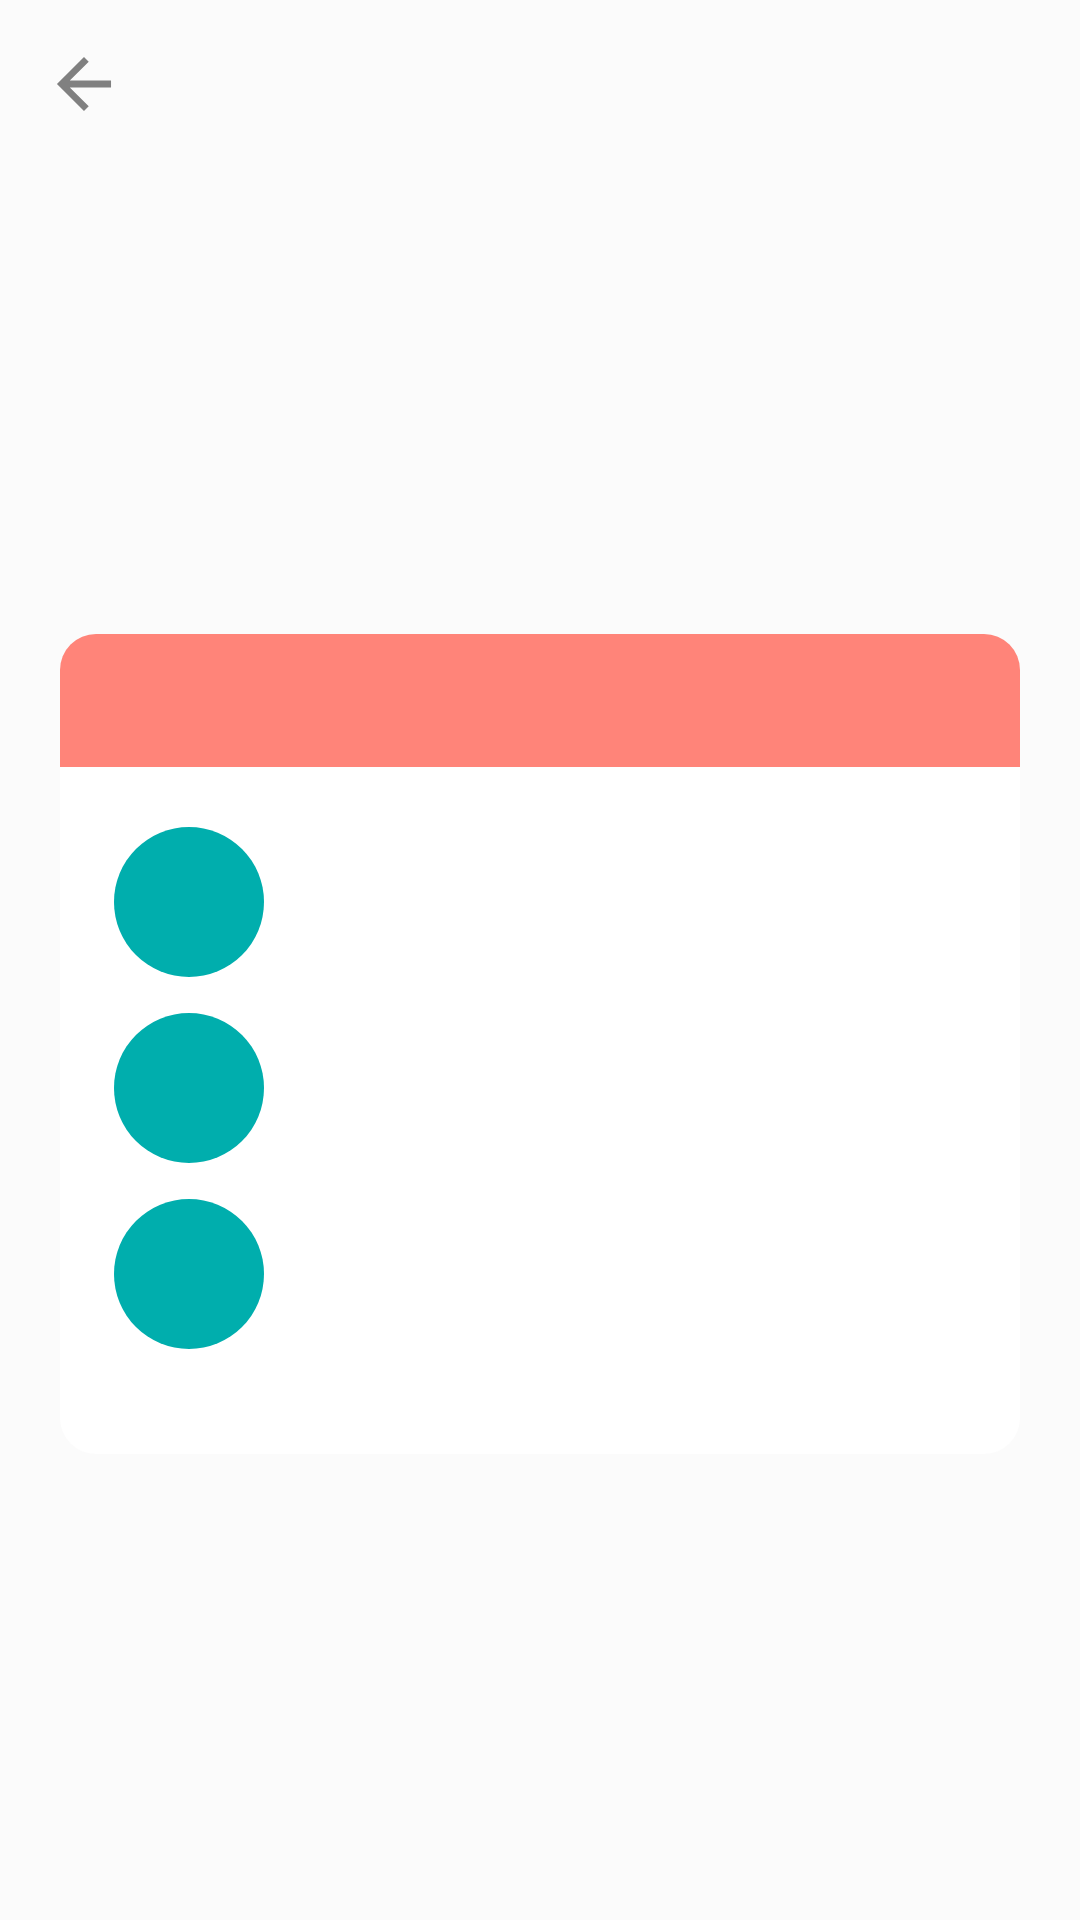

Icon bounding boxes for this 1080 × 1920 phone screenshot, format (x1, y1, x2, y2):
arrow back: (57, 57, 111, 111)
